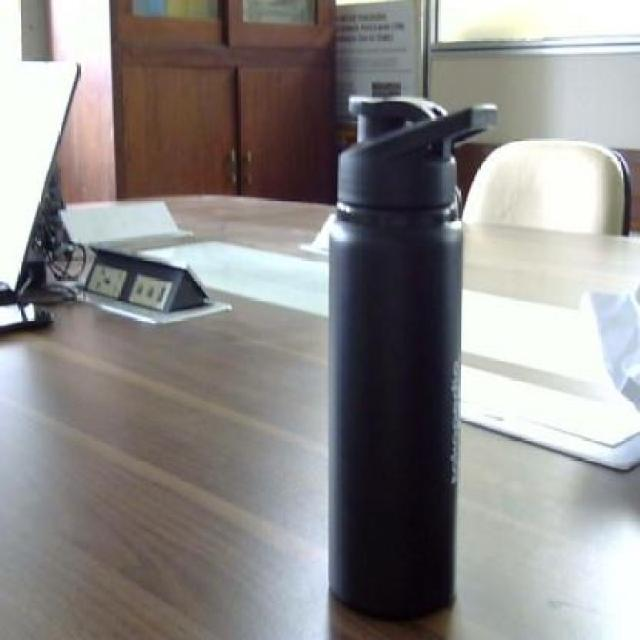Metal: (328, 225, 463, 625)
